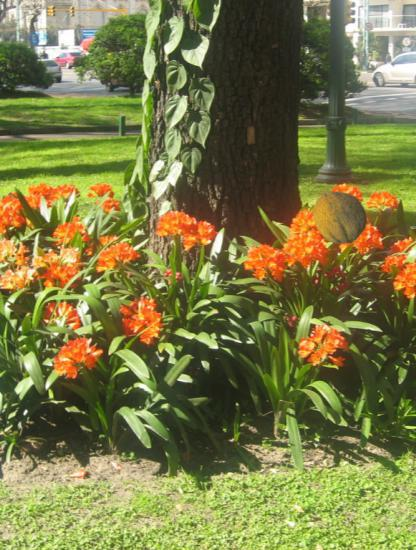Cantaloupe: (311, 188, 369, 246)
